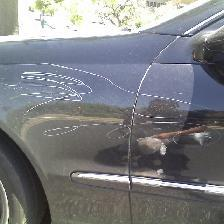door_scratch: (7, 53, 221, 173)
